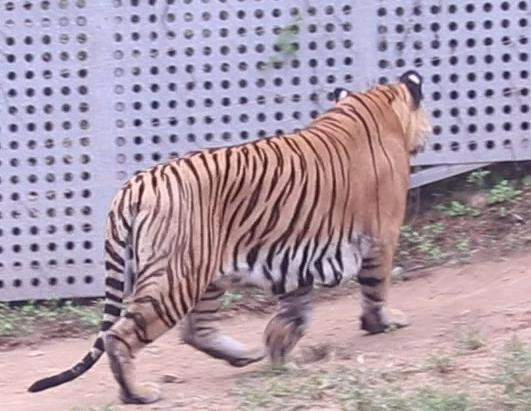tiger: (65, 71, 427, 403)
